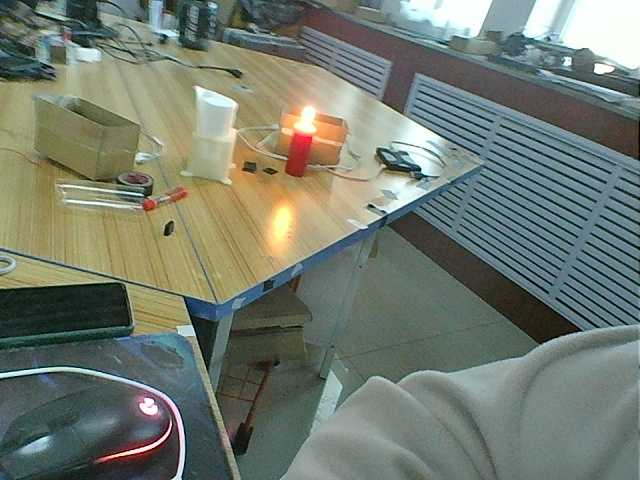candle: (286, 130, 316, 178)
fire: (294, 104, 321, 136)
